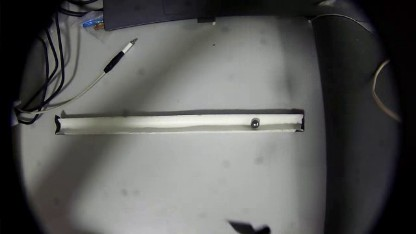gangzhu: (248, 117, 260, 130)
